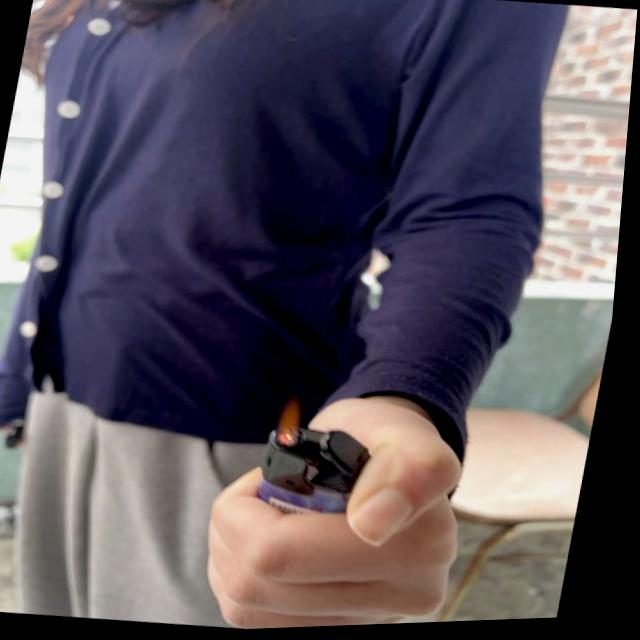helmet: (280, 397, 312, 449)
